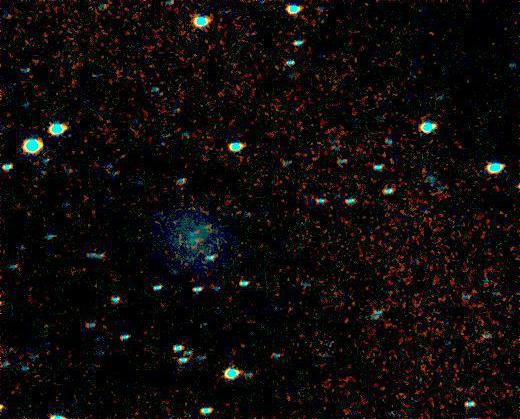star: (252, 199, 282, 229)
